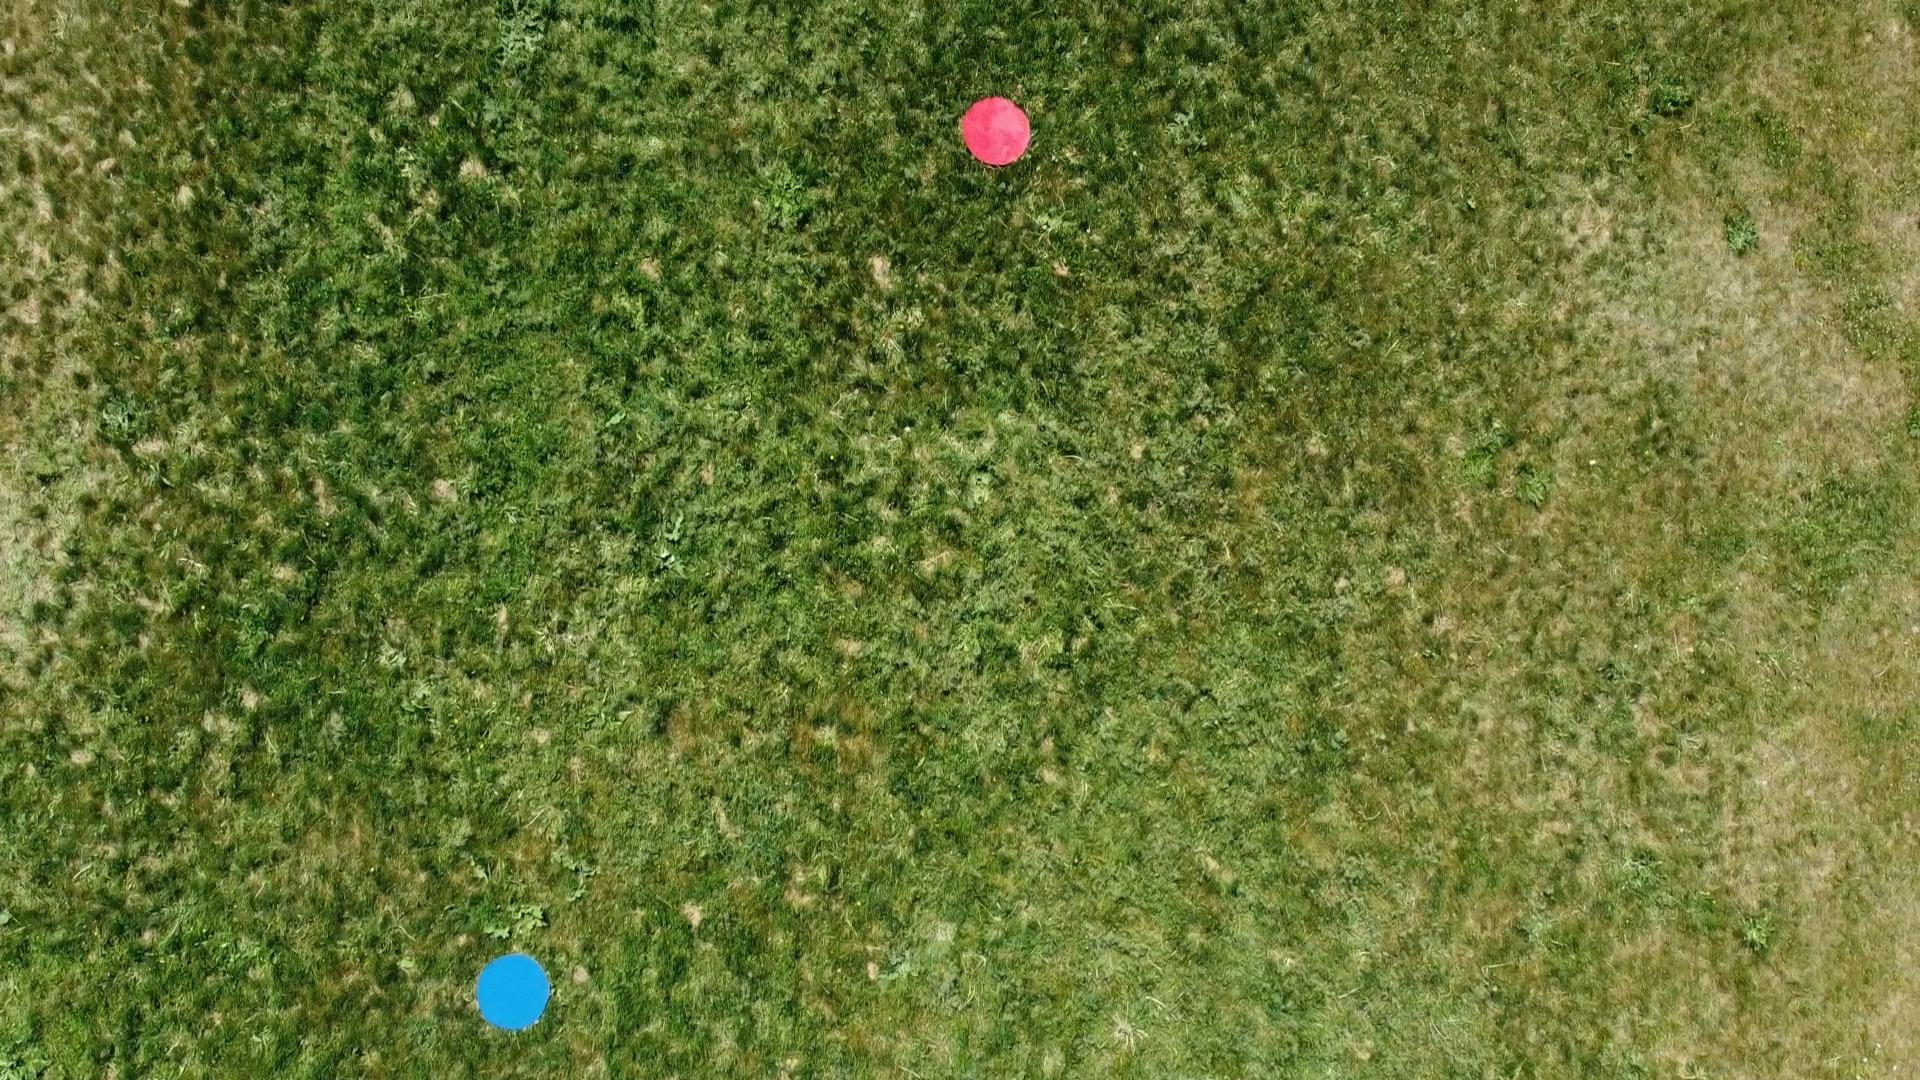Blue: (473, 951, 554, 1033)
Red: (959, 95, 1034, 170)
